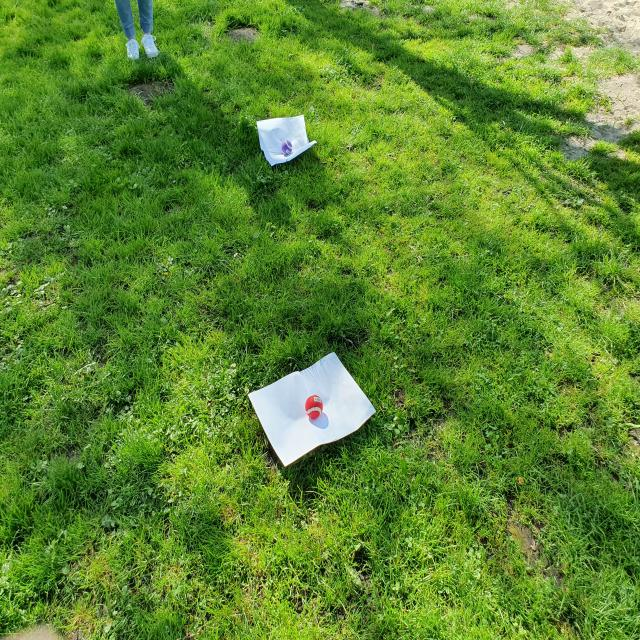purple: (282, 140, 292, 155)
red: (305, 395, 323, 419)
